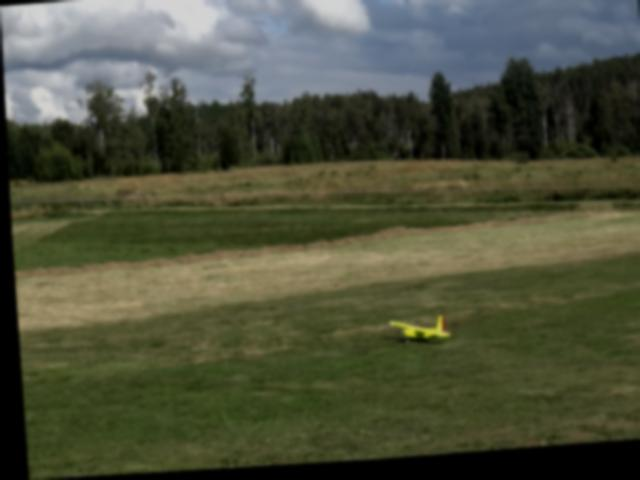plane: (385, 319, 448, 351)
